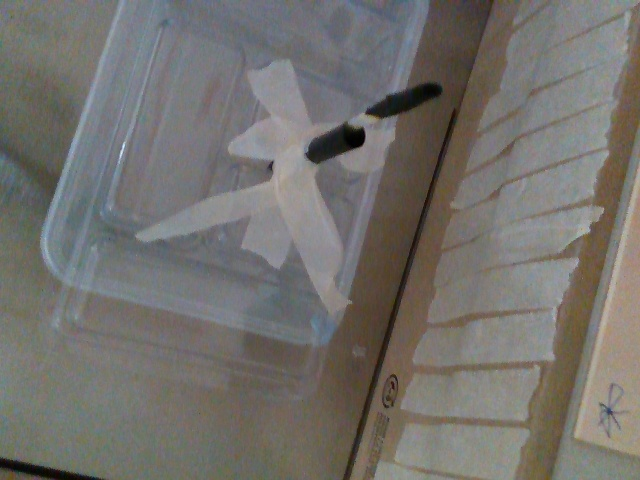test_strip: (343, 82, 444, 129)
